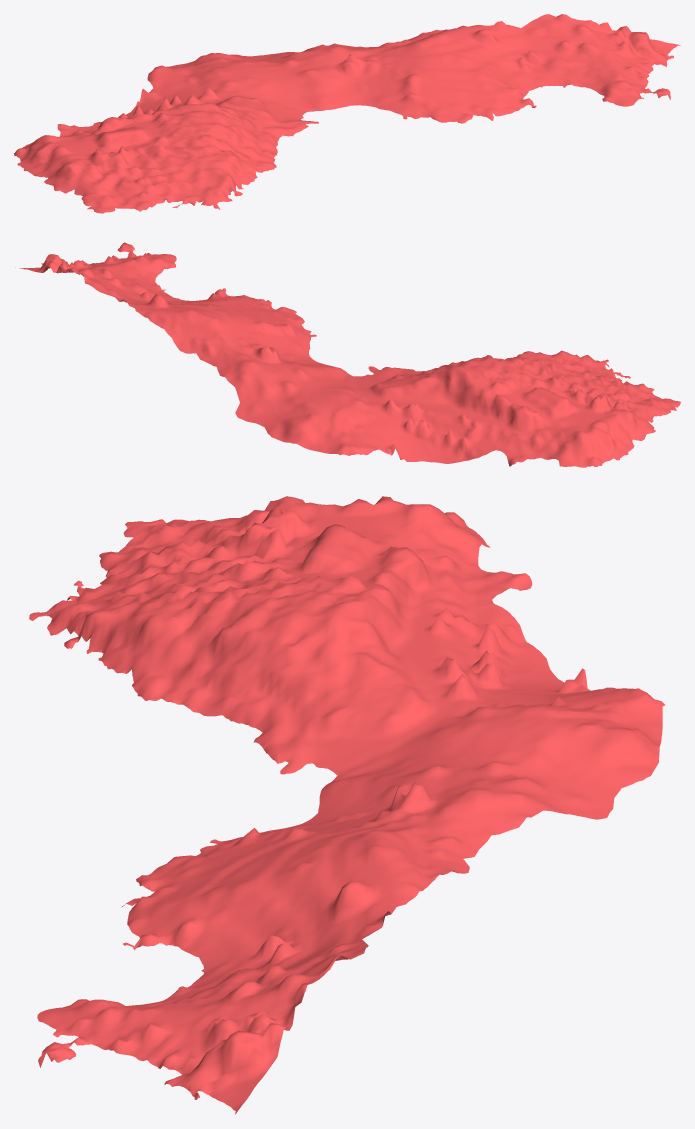
Rendered from permian.dae.
The picture shows the model from 3 angles, top to bottom: view 1: azimuth 30°, elevation 25°; view 2: azimuth 150°, elevation 25°; view 3: azimuth 270°, elevation 25°; orthographic projection. The views are drawn at different scales.
Visible parts, largest first — view 1: Object; view 2: Object; view 3: Object.
Part boxes in pixels (x1,y1,x2,y2): Object: (14, 14, 680, 213); Object: (15, 242, 680, 467); Object: (29, 496, 665, 1114).
Bounding box in the file's own units: 69.47 × 30.85 × 4.94.
